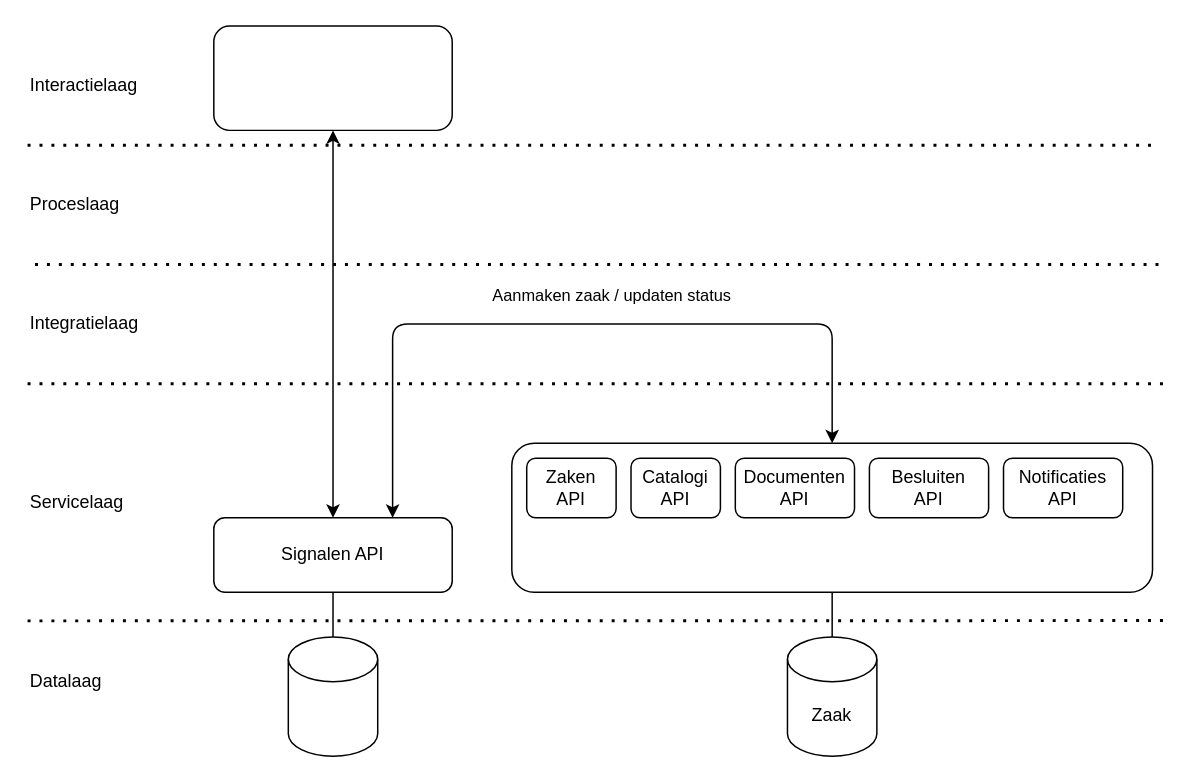
Image size: 1195x782. Some labels were removed from this diagram. The shapes that lost their labels are listed below. From the top down, each one's box as (x1, y1, x2, y2) in pixels, then its label:
(212, 25, 452, 130): Signalen frontend en backoffice
(510, 442, 1153, 592): Openzaak
(287, 635, 378, 756): Melding
